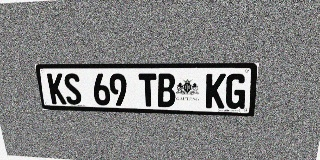6: (92, 73, 111, 106)
9: (109, 73, 128, 106)
B: (157, 73, 175, 107)
G: (225, 74, 247, 109)
K: (205, 74, 226, 109), (47, 73, 67, 104)
S: (63, 73, 82, 105)
T: (138, 73, 157, 107)
